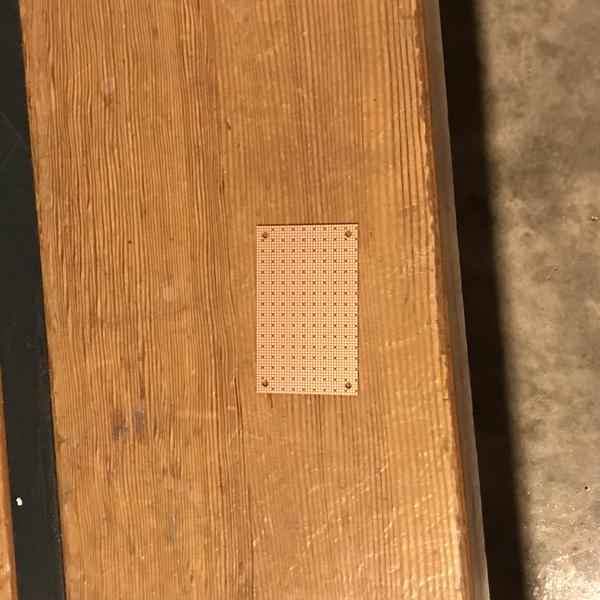board: (253, 219, 362, 399)
